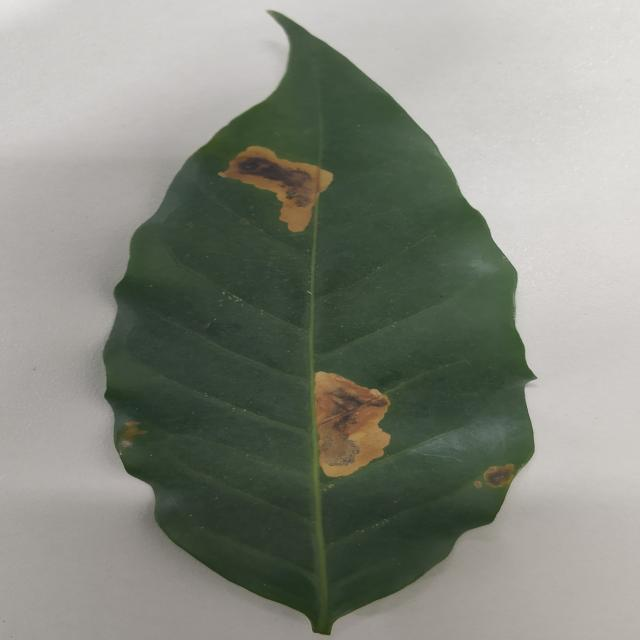Plaga-Minador: (102, 12, 536, 636)
